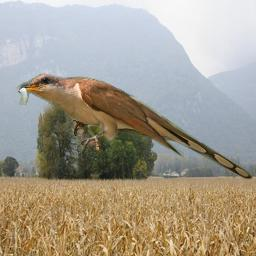Cuckoo: (13, 73, 254, 180)
